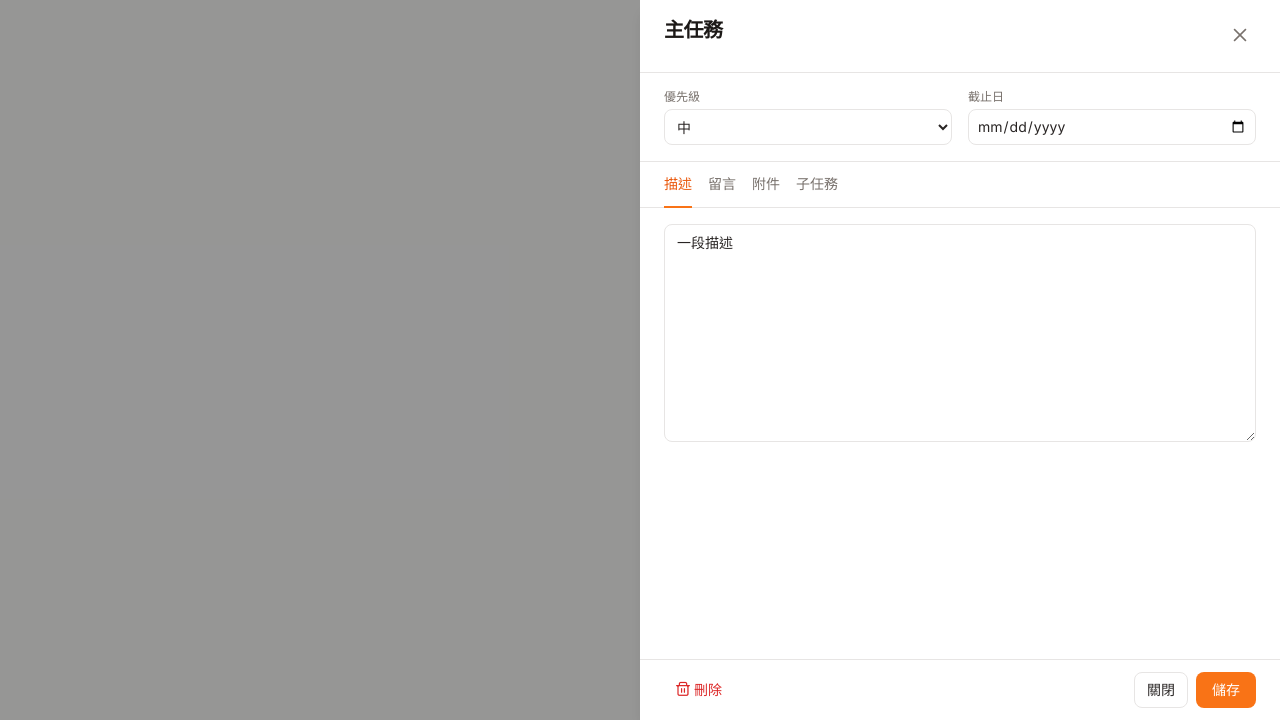
TaskDrawer › 提交留言：POST /tasks/:id/comments/、加入列表、清空輸入
Click the button with test id "tab-btn-comments" at (722, 185), box top-left (708, 162), bottom-right (736, 208)
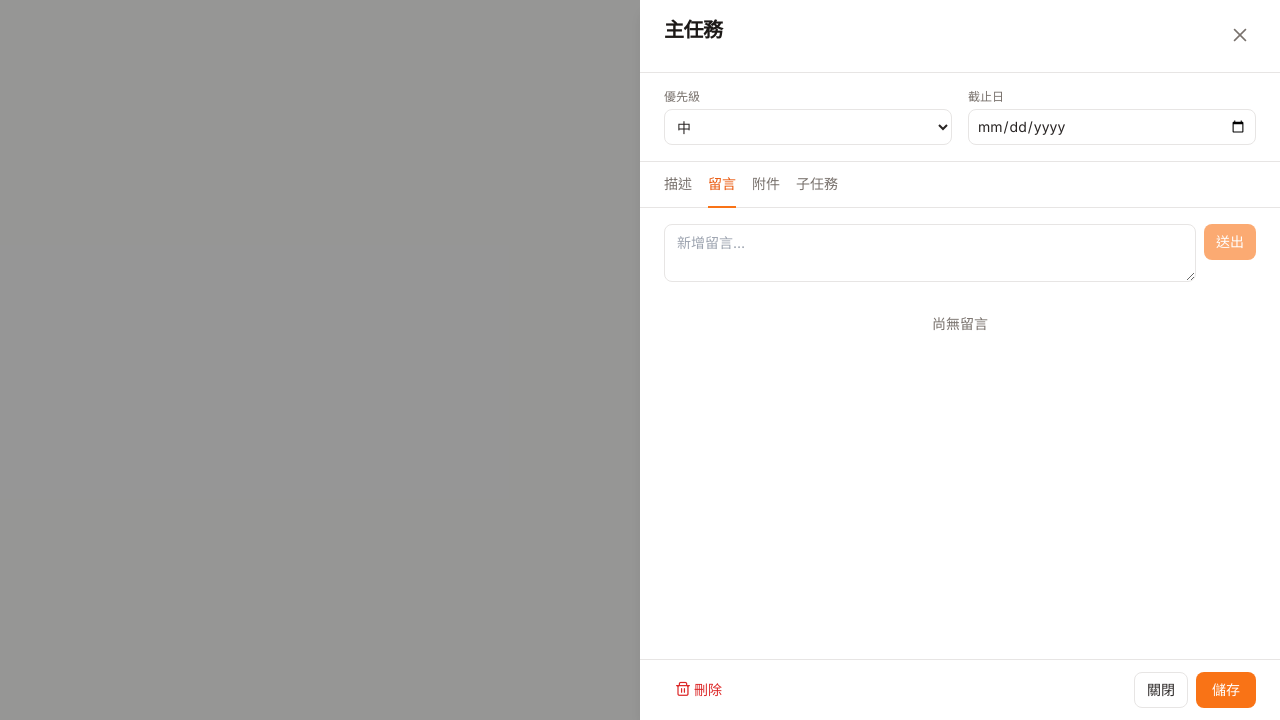
Type "我來回" into the text box with test id "comment-input" at (930, 253), box top-left (664, 224), bottom-right (1196, 282)
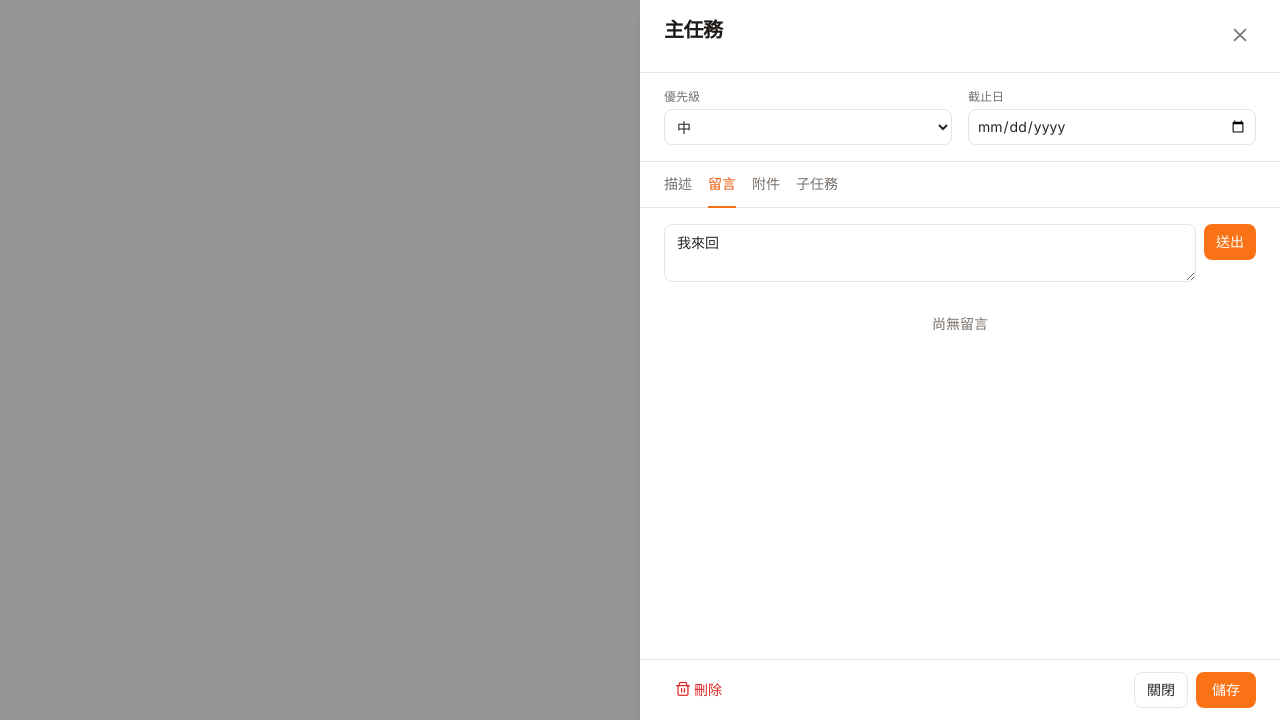
Submit the form with test id "comment-form", box top-left (664, 224), bottom-right (1256, 282)
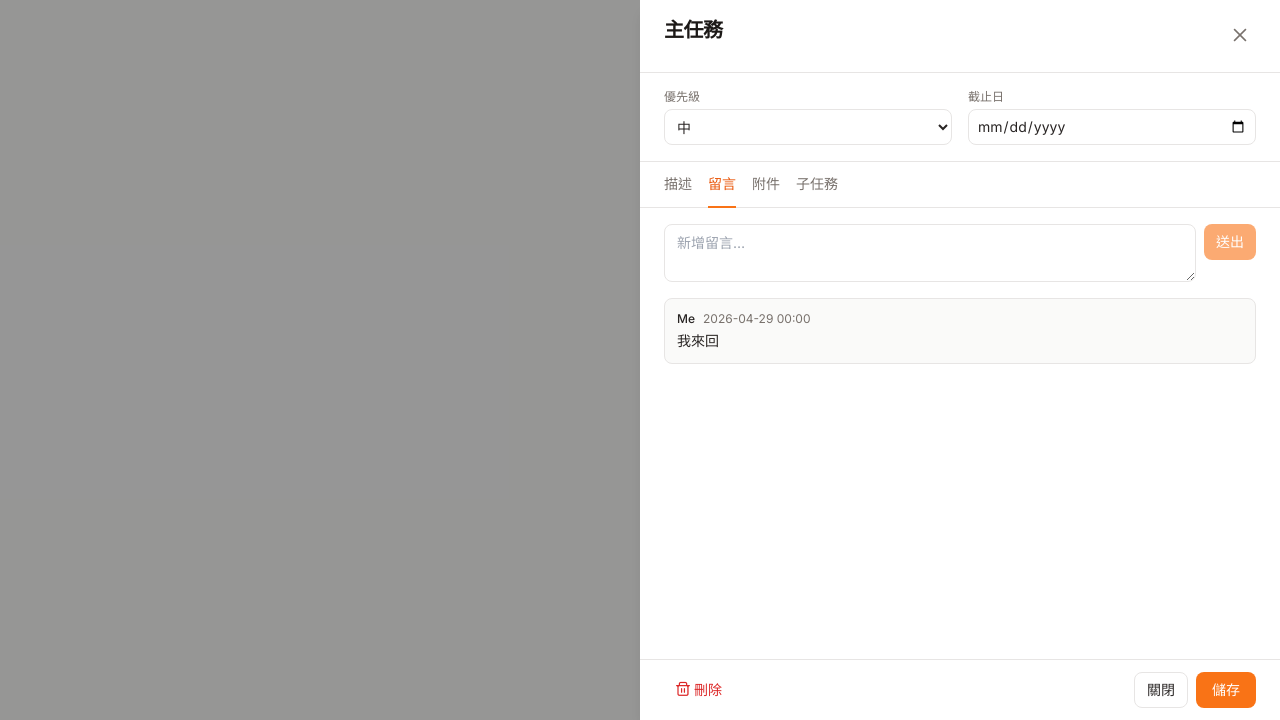
Expected: the text "我來回" is shown, top-left (677, 332), bottom-right (719, 349)
Expected: the text box with test id "comment-input" is empty, top-left (664, 224), bottom-right (1196, 282)
